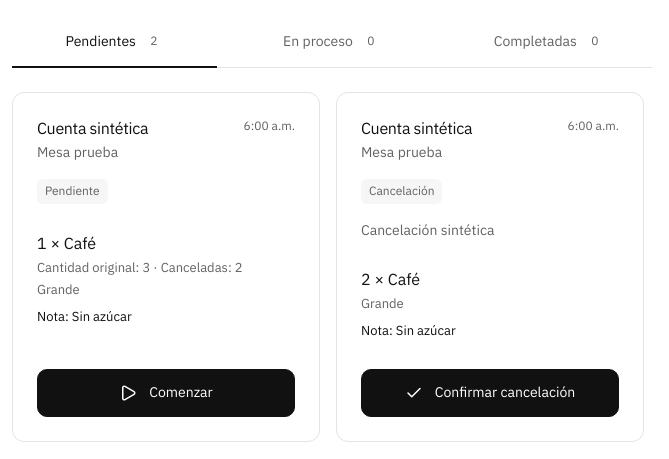
Test case: acknowledging a cancellation notice preserves the original batch cancellation overlay
This screenshot has width=669, height=459.
Click the button "Confirmar cancelación" at (490, 393), box [361,369,619,417]
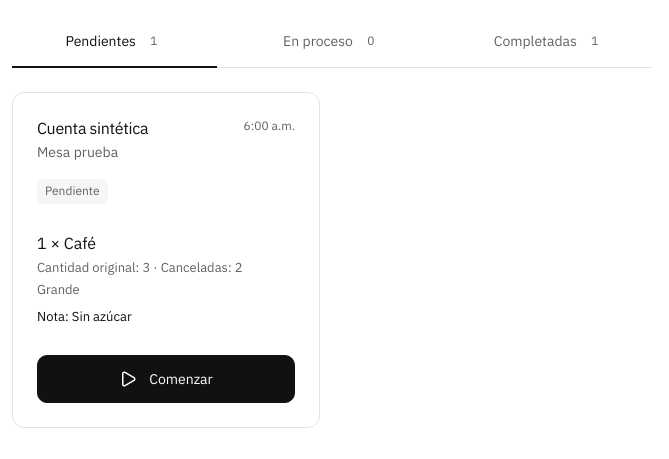
Expected: the text "1 × Café" is shown, [37,233,96,253]
Expected: the number of buttons "Comenzar" is 1, [37,355,295,403]
Expected: the number of elements named "Comanda Cuenta sintética" is 1, [12,92,320,428]
Click the button "Completadas 1" at (549, 42), box [447,16,652,68]
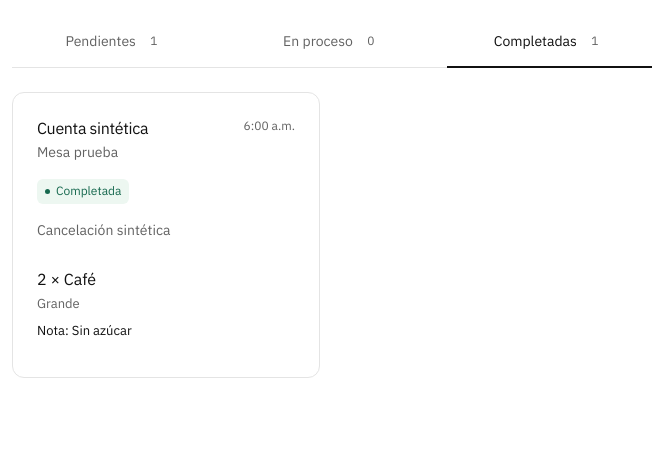
Expected: the number of elements named "Comanda Cuenta sintética" is 1, [12,92,320,378]
Expected: the text "Completada" is shown, [37,179,130,204]
Expected: the text "2 × Café" is shown, [37,269,96,289]
